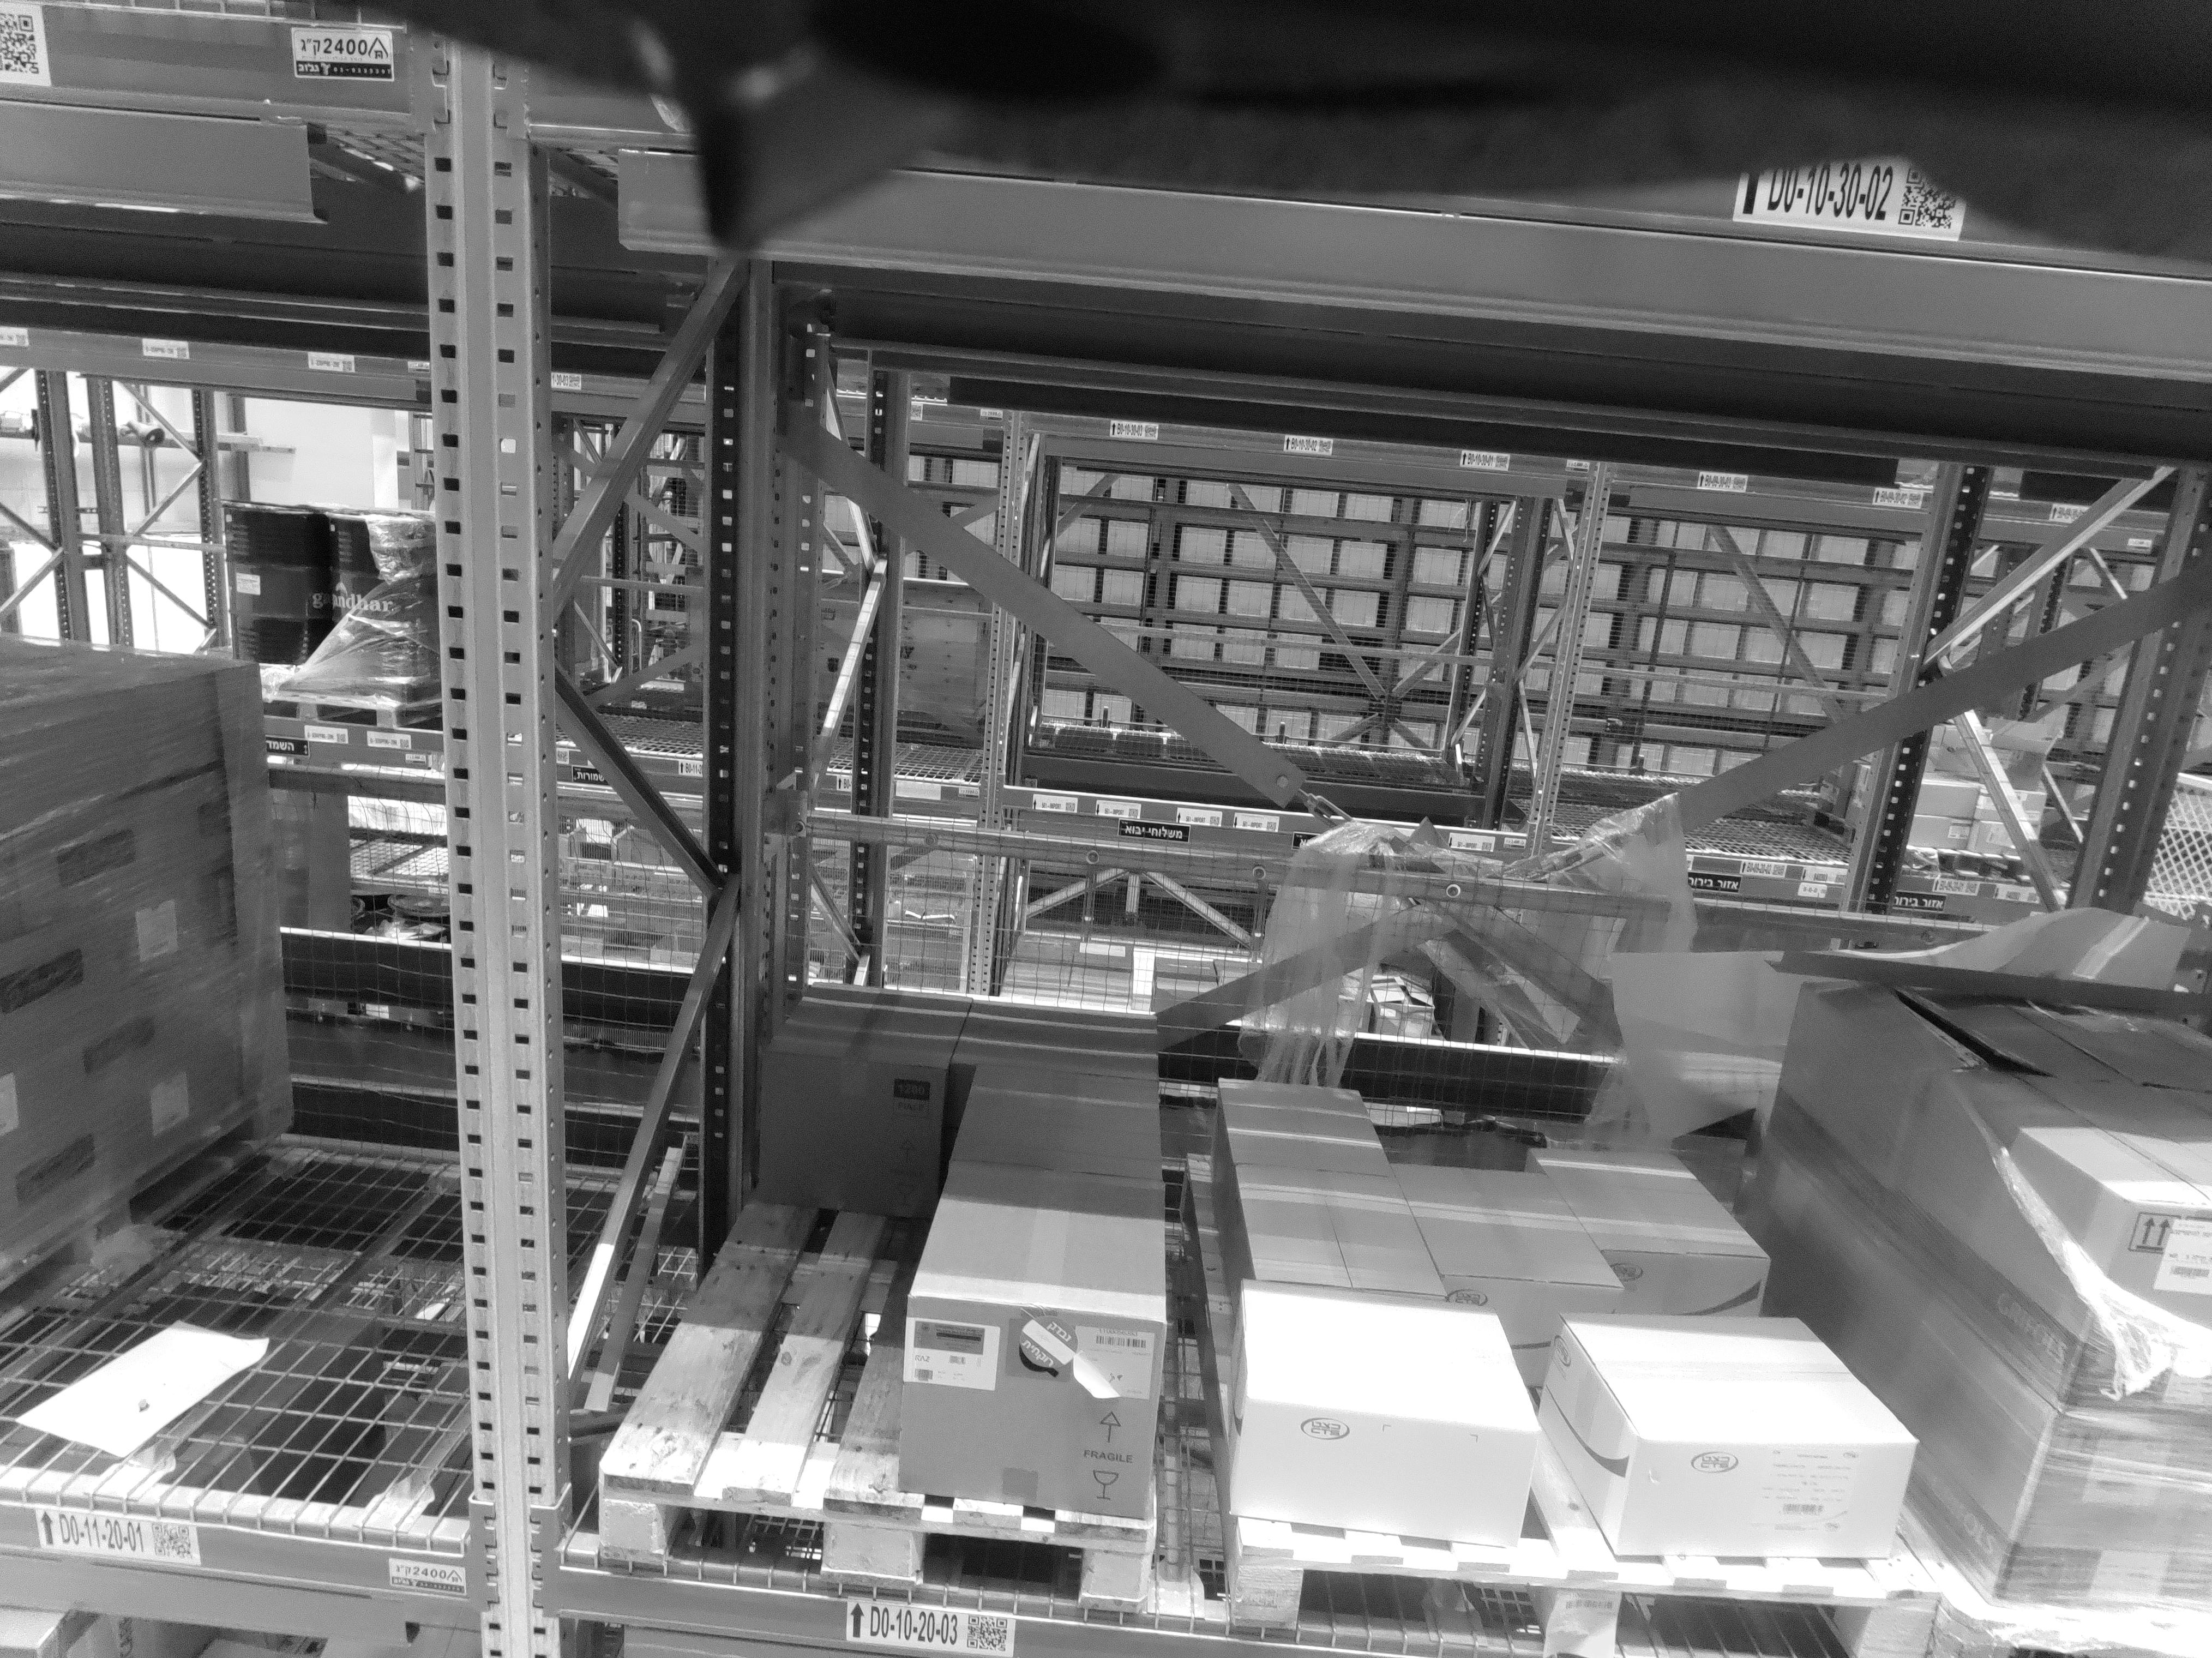empty-shelf: (266, 540, 425, 1440)
